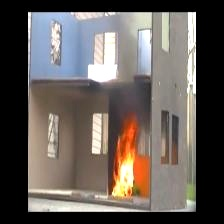fire: (108, 120, 144, 195)
